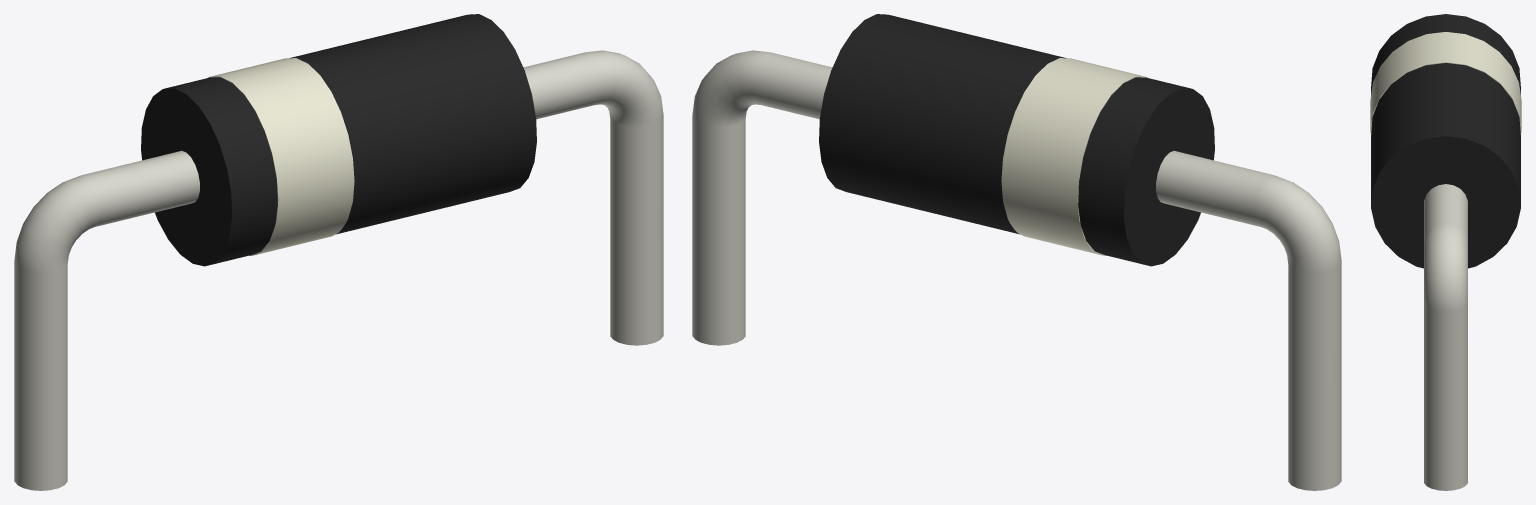
The picture shows the model from 3 angles, left to right: view 1: azimuth 30°, elevation 25°; view 2: azimuth 150°, elevation 25°; view 3: azimuth 270°, elevation 25°; orthographic projection. The views are drawn at different scales.
Parts seen in each view (by area): view 1: 0F91EFA82CCA03D2E57F681D025AABBFF048CFC4|:|B8A4396250C5687B1; view 2: 0F91EFA82CCA03D2E57F681D025AABBFF048CFC4|:|B8A4396250C5687B1; view 3: 0F91EFA82CCA03D2E57F681D025AABBFF048CFC4|:|B8A4396250C5687B1.
Part boxes in pixels (x1,y1,x2,y2): 0F91EFA82CCA03D2E57F681D025AABBFF048CFC4|:|B8A4396250C5687B1: (14,14,663,490); 0F91EFA82CCA03D2E57F681D025AABBFF048CFC4|:|B8A4396250C5687B1: (692,14,1341,490); 0F91EFA82CCA03D2E57F681D025AABBFF048CFC4|:|B8A4396250C5687B1: (1370,14,1521,490).
Size of the model in its own units: 0.4315 by 0.2248 by 0.1071.
